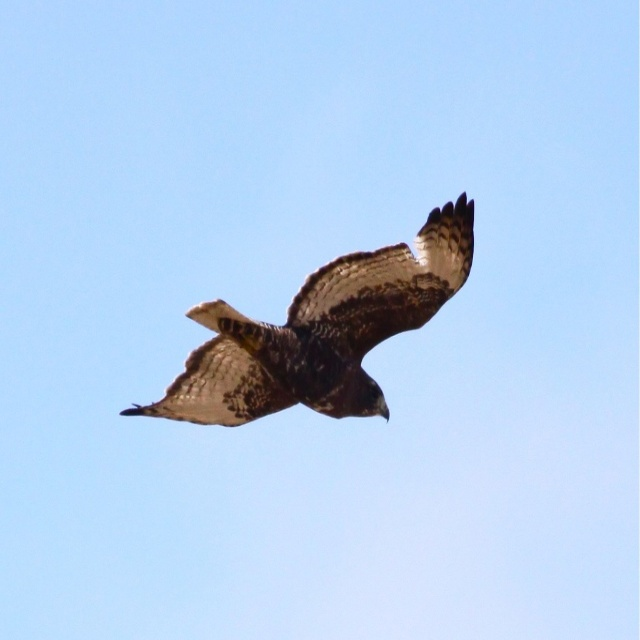Eagle: (117, 183, 476, 433)
